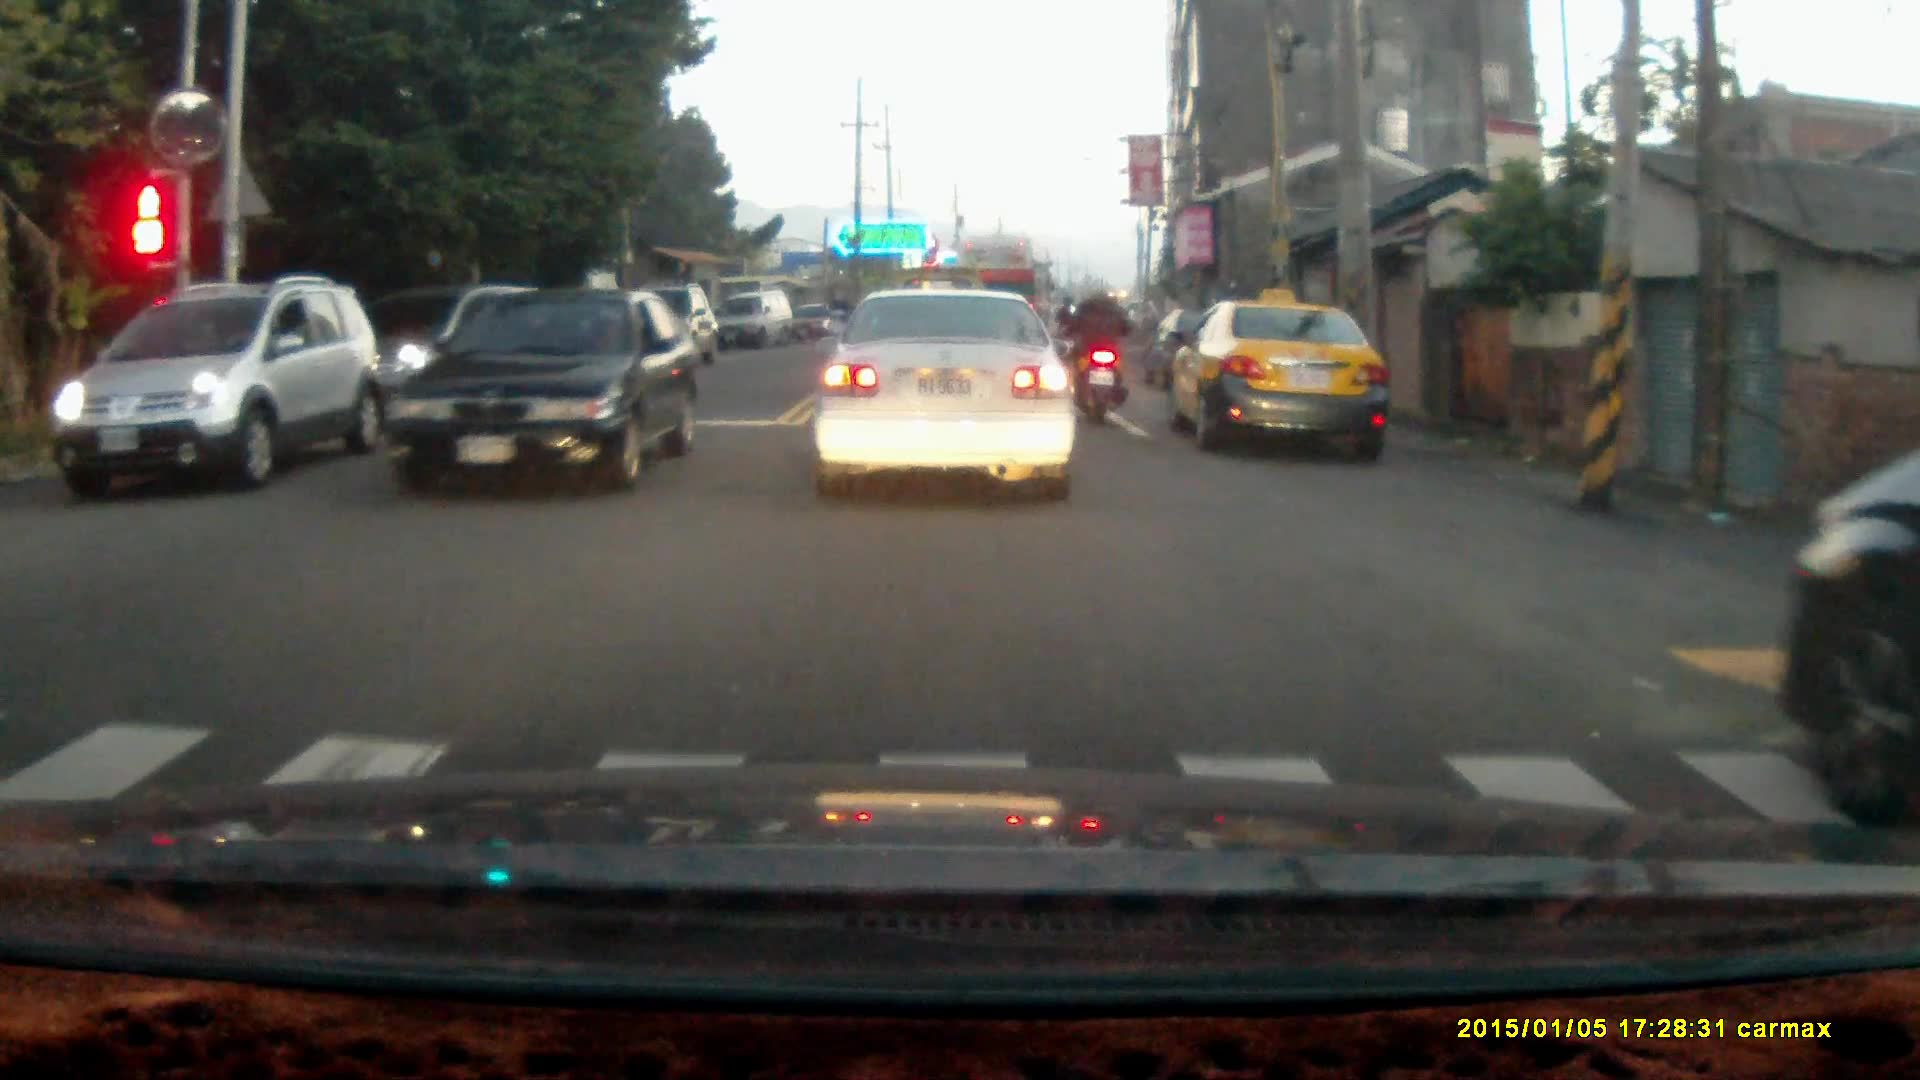rider: (1068, 274, 1135, 425)
vehicle: (44, 274, 369, 493), (384, 286, 701, 494), (813, 283, 1084, 500), (1770, 458, 1920, 807), (1174, 298, 1391, 455), (720, 288, 794, 352)
